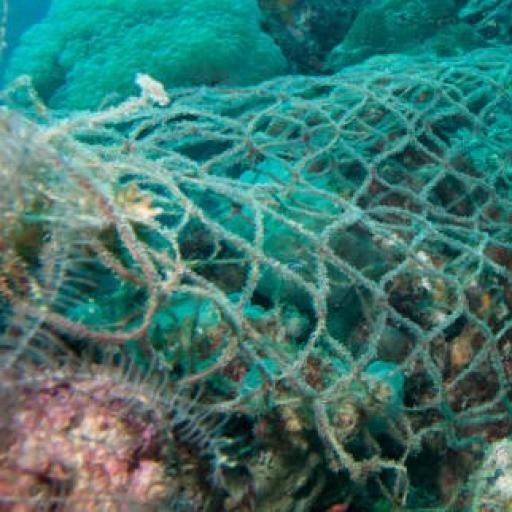net: (0, 59, 512, 505)
